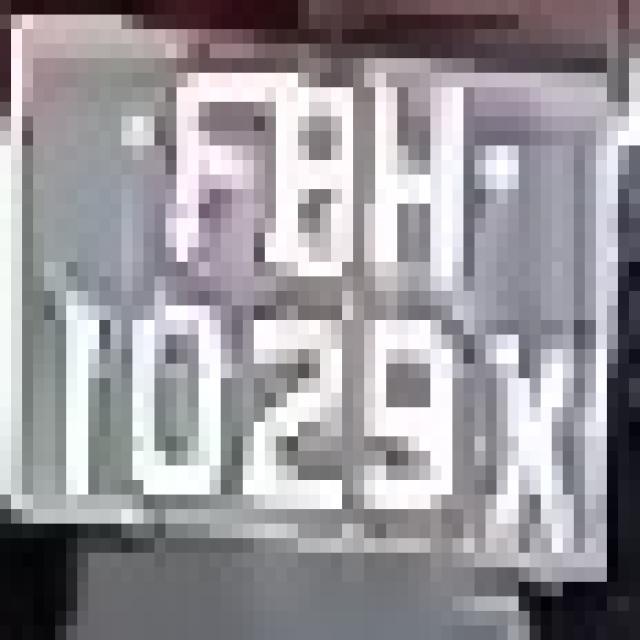0: (110, 233, 243, 538)
1: (33, 262, 110, 553)
2: (243, 248, 353, 568)
9: (353, 262, 464, 553)
B: (232, 29, 364, 320)
F: (154, 0, 287, 335)
H: (342, 44, 497, 291)
X: (430, 247, 607, 640)
